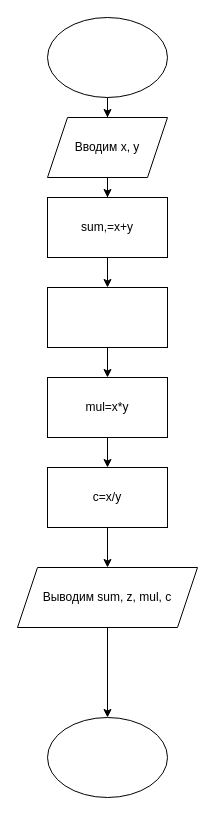
Image size: 215x815. Some labels were removed from this diagram. Each missing label, with the centre of its shape:
"z=x-y" goes at [107,317].
"Старт" goes at [107,57].
"Стоп" goes at [107,757].
